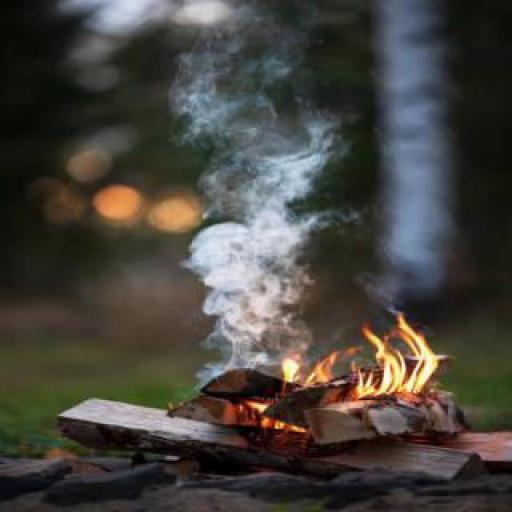smoke: (156, 5, 366, 376), (310, 310, 454, 410)
